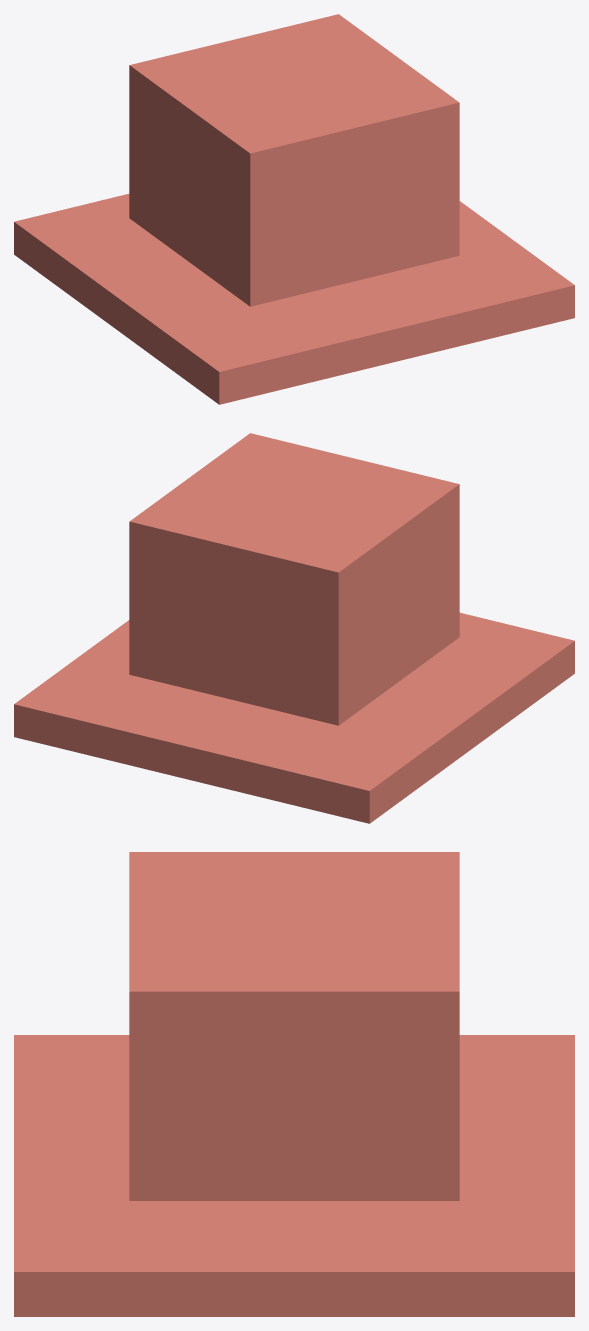
The model's file is hat.glb.
The picture shows the model from 3 angles, top to bottom: view 1: azimuth 30°, elevation 25°; view 2: azimuth 150°, elevation 25°; view 3: azimuth 270°, elevation 25°; orthographic projection. The views are drawn at different scales.
Parts seen in each view (by area): view 1: Mesh; view 2: Mesh; view 3: Mesh.
Boxes of the visible parts, x1,y1,x2,y2 form: Mesh: (14, 14, 574, 404); Mesh: (14, 433, 574, 823); Mesh: (14, 852, 574, 1316).
Bounding box in the file's own units: 0.34 × 0.185 × 0.34.
